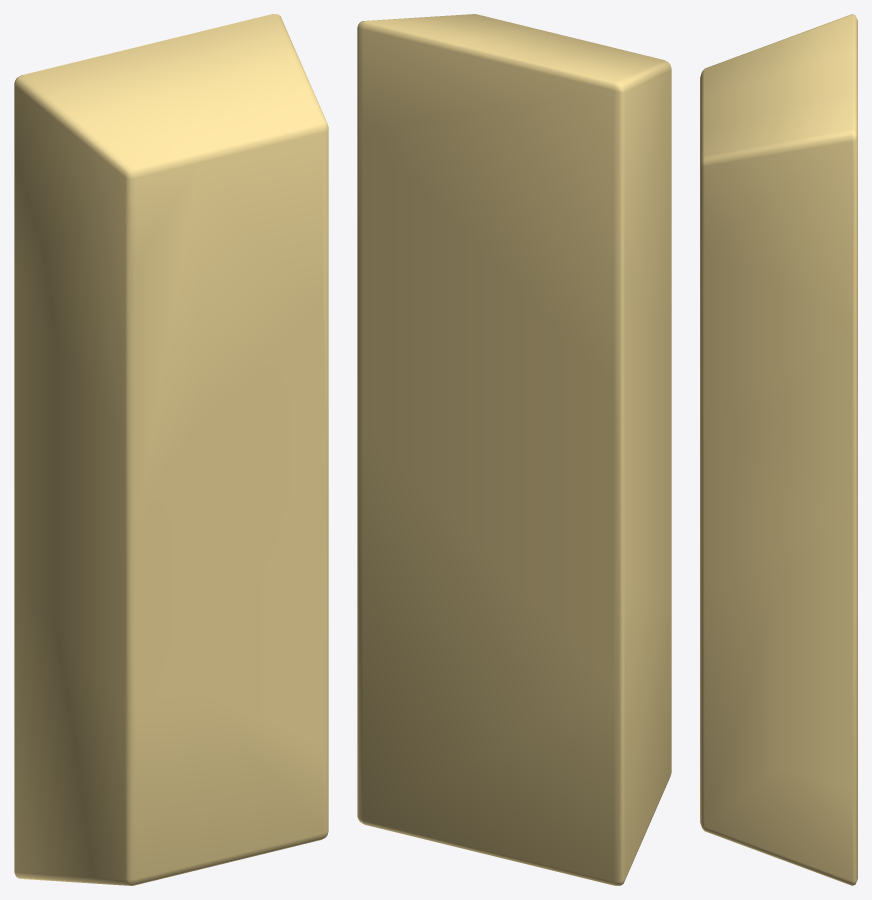
File: gold_bar.glb
The picture shows the model from 3 angles, left to right: view 1: azimuth 30°, elevation 25°; view 2: azimuth 150°, elevation 25°; view 3: azimuth 270°, elevation 25°; orthographic projection. The views are drawn at different scales.
Visible parts, largest first — view 1: Gold Bar; view 2: Gold Bar; view 3: Gold Bar.
Boxes of the visible parts, x1,y1,x2,y2 form: Gold Bar: [14, 14, 328, 885]; Gold Bar: [357, 14, 671, 885]; Gold Bar: [700, 14, 857, 885].
Bounding box in the file's own units: 0.0945 × 0.272 × 0.0515.
